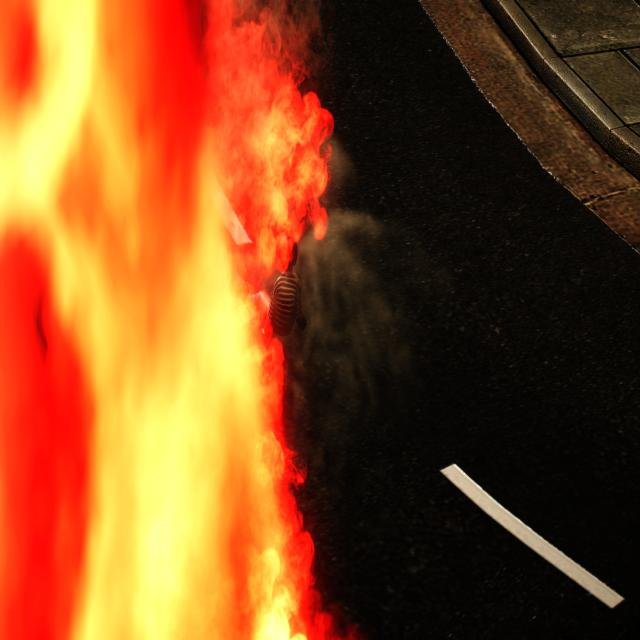Human: (236, 224, 312, 347)
